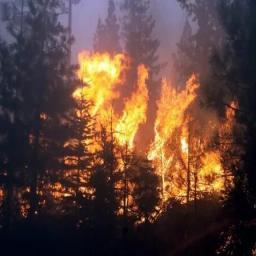Medium fire: (74, 41, 239, 216)
